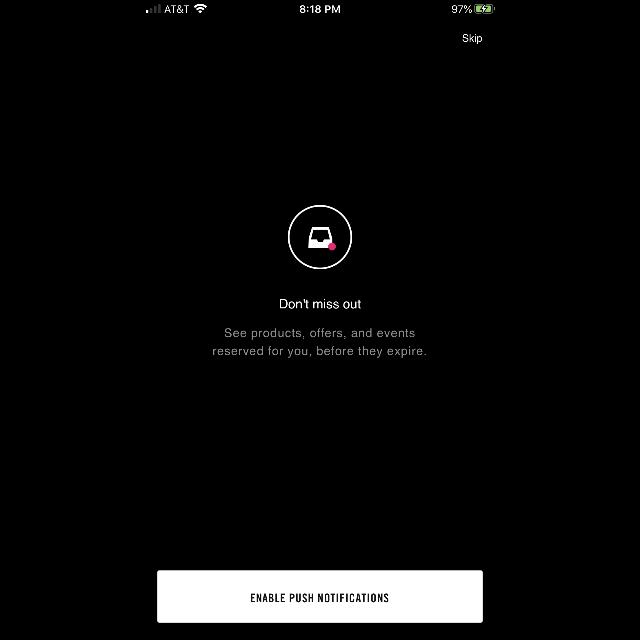image: (288, 205, 352, 269)
text: (214, 328, 426, 358), (280, 299, 360, 309), (462, 34, 482, 44)
textbutton: (158, 571, 482, 623)
uppertaskbar: (140, 0, 500, 14)
